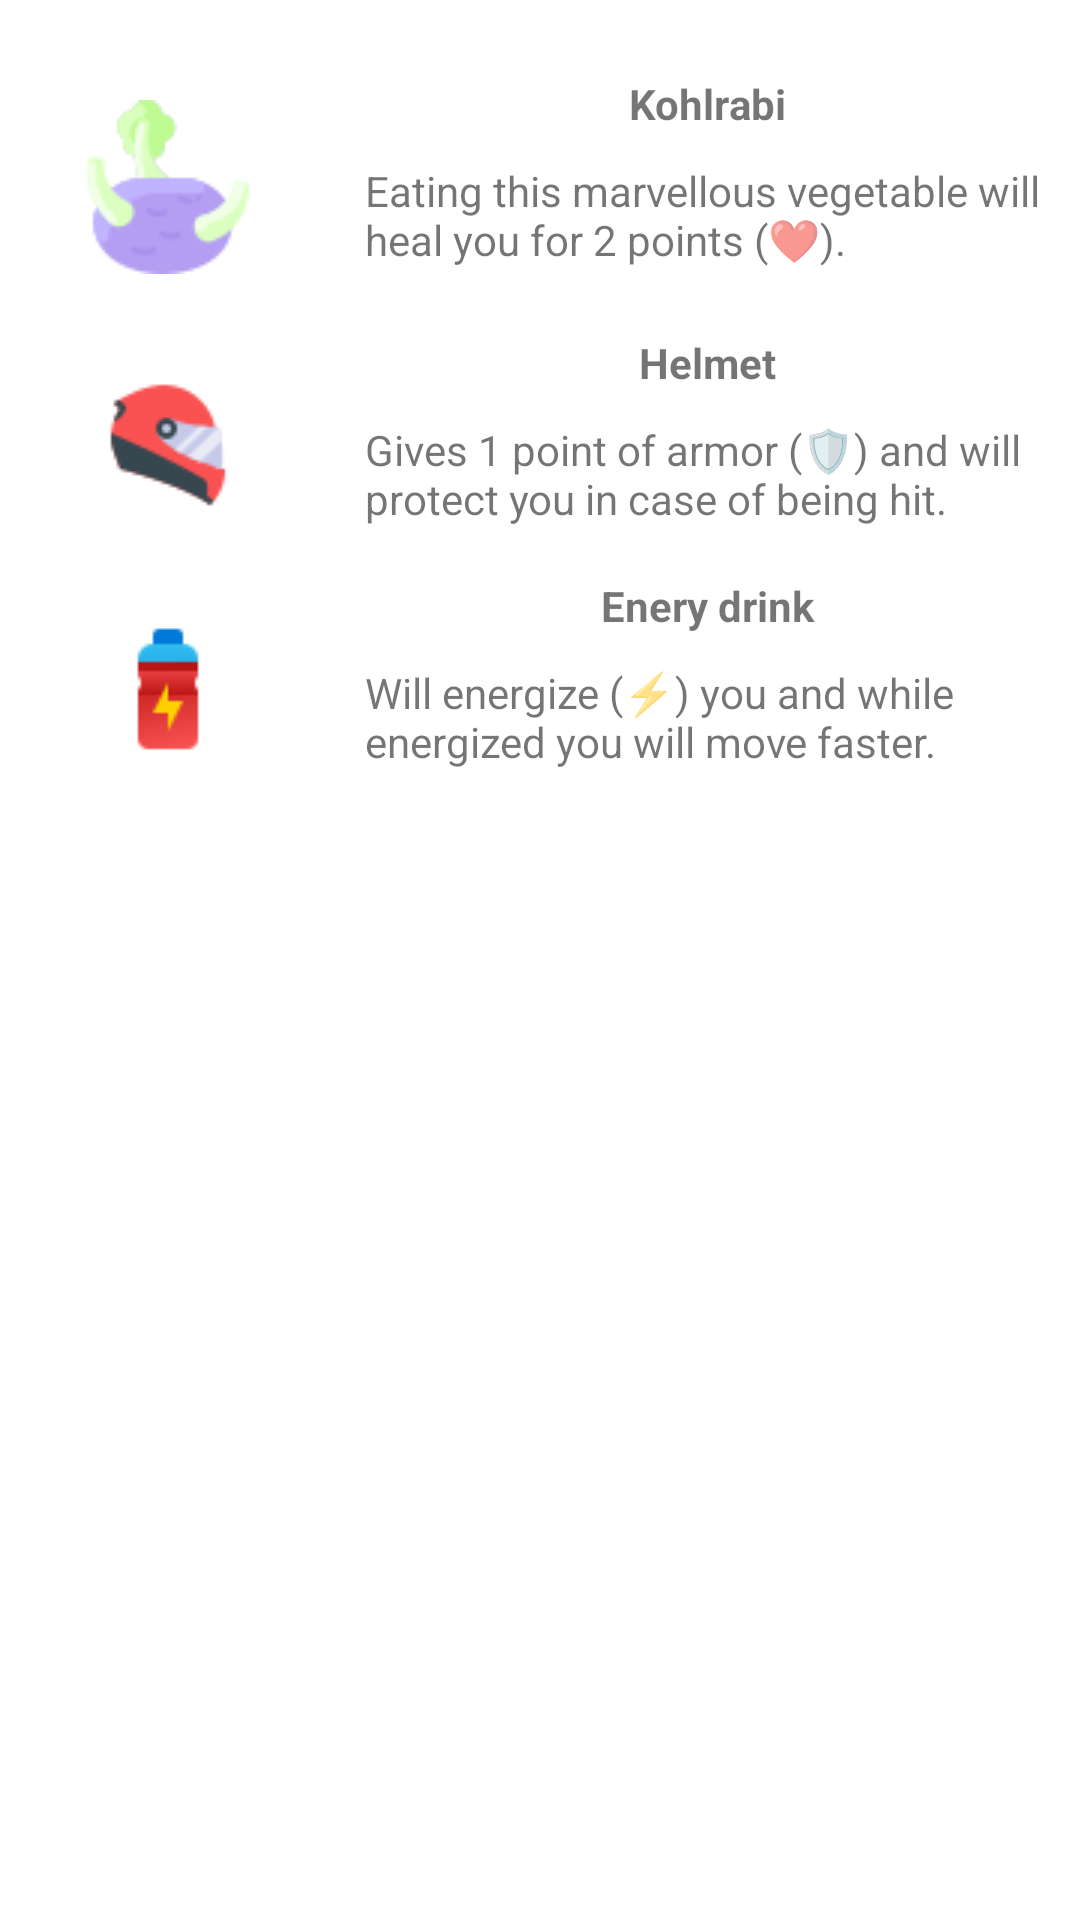

Screen size 1080 × 1920. Icon name, then its box in pixels as (x1, y1, x2, y2):
colinabo: (88, 100, 249, 274)
energy: (137, 628, 199, 750)
helmet: (110, 384, 226, 506)
